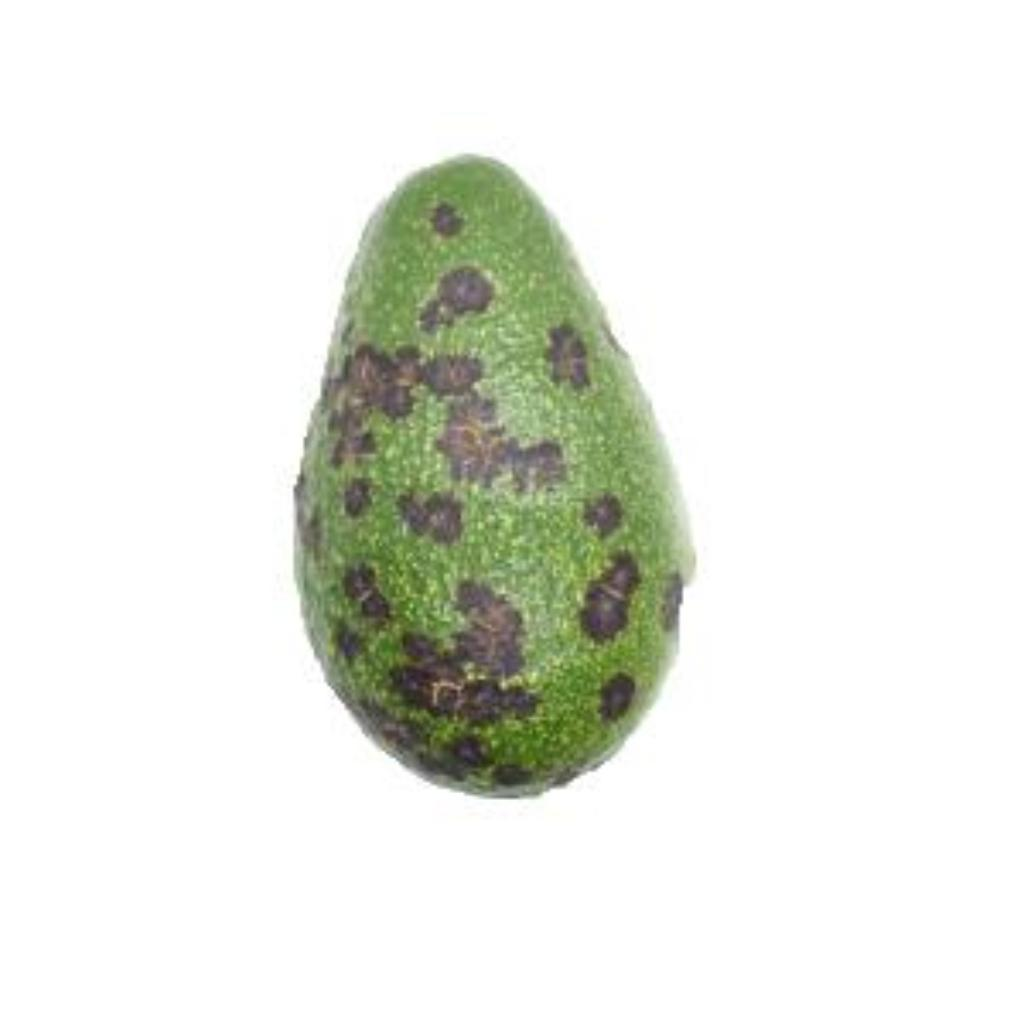cercospora_spot: (270, 145, 730, 807)
